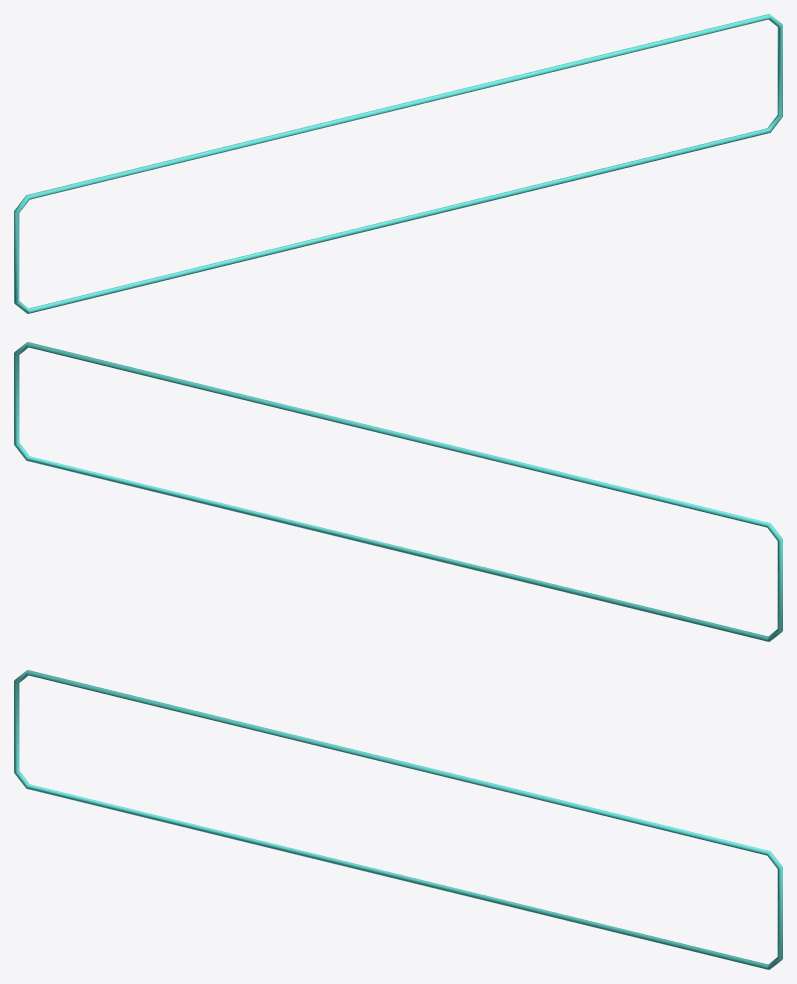
Rendered from kiosk_neon_trim.glb.
3 renders of one model, top to bottom at view 1: azimuth 30°, elevation 25°; view 2: azimuth 150°, elevation 25°; view 3: azimuth 330°, elevation 25°, orthographic.
Visible parts, largest first — view 1: Continuous neon sign border; view 2: Continuous neon sign border; view 3: Continuous neon sign border.
Boxes of the visible parts, x1=… form: Continuous neon sign border: x1=14, y1=14, x2=782, y2=313; Continuous neon sign border: x1=14, y1=342, x2=782, y2=641; Continuous neon sign border: x1=14, y1=670, x2=782, y2=969.
Bounding box in the file's own units: 4.02 × 0.594 × 0.026.
